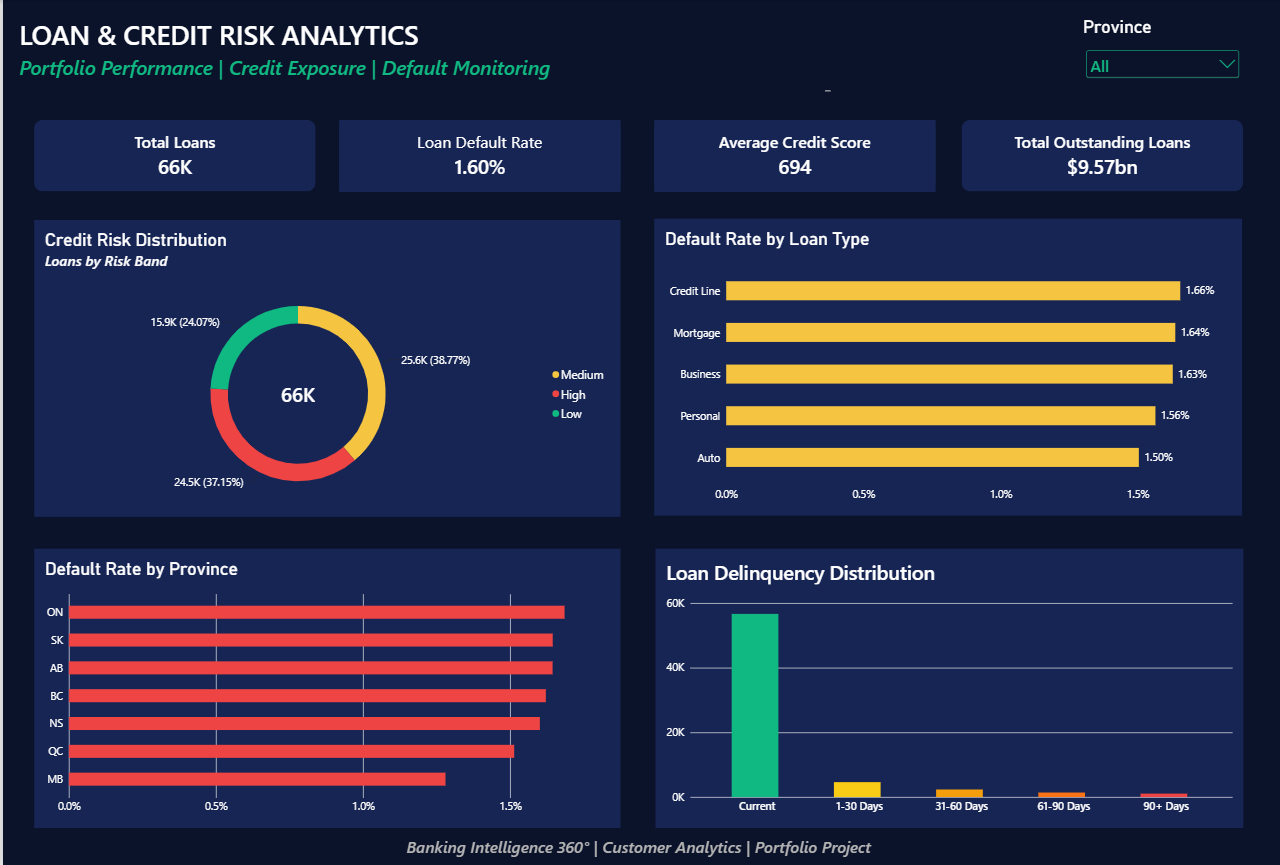

This screenshot's page, from the dashboard's own definition file:
{"tool":"powerbi","page":{"name":"Loan & Credit Risk Analytics","canvas":[1920,1300],"ordinal":2},"visuals":[{"type":"cardVisual","fields":{"Data":["_Measures (2).Total Loans"]},"box":[46.9,180.7,422.4,107.9],"z":0},{"type":"cardVisual","fields":{"Data":["_Measures (2).Loan Default Rate"]},"box":[504.5,180.7,422.4,107.9],"z":1000},{"type":"cardVisual","fields":{"Data":["_Measures (2).Average Credit Score"]},"box":[978.6,180.7,422.4,107.9],"z":2000},{"type":"cardVisual","fields":{"Data":["_Measures (2).Total Outstanding Loans"]},"box":[1438.5,180.7,422.4,107.9],"z":3000},{"type":"textbox","title":"LOAN & CREDIT RISK ANALYTICS","box":[23.5,23.5,1217.9,112.6],"z":4000},{"type":"donutChart","title":"Credit Risk Distribution","fields":{"Category":["CreditRisk.RiskBand"],"Y":["_Measures (2).Loans by Risk Band"]},"box":[46,329.6,879.8,446],"z":5000},{"type":"clusteredBarChart","title":"Default Rate by Loan Type","fields":{"Category":["Loans.LoanType"],"Y":["_Measures (2).Loan Default Rate"]},"box":[978.6,328.5,882.3,445.9],"z":6000},{"type":"clusteredBarChart","title":"Default Rate by Province","fields":{"Category":["Branches.Province"],"Y":["_Measures (2).Loan Default Rate"]},"box":[46,824,879.8,419.3],"z":7000},{"type":"clusteredColumnChart","title":"Loan Delinquency Distribution","fields":{"Category":["Loans.Delinquency Bucket"],"Y":["_Measures (2).Total Loans"]},"box":[979.2,824,882.2,419.3],"z":8000},{"type":"slicer","title":"Province","fields":{"Values":["Branches.Province"]},"box":[1621.5,23.5,239.4,112.6],"z":9000},{"type":"textbox","title":"Banking Intelligence 360° | Customer Analytics | Portfolio Project","box":[514.7,1255.2,880.2,44.8],"z":9001}]}

Visuals, with their boxes in screenshot pixels (x1, y1, x2, y2), scaled from the page's 1920x1300 canvas onto the 1280x865 screenshot:
cardVisual - _Measures (2).Total Loans: crop(31, 120, 313, 192)
cardVisual - _Measures (2).Loan Default Rate: crop(336, 120, 618, 192)
cardVisual - _Measures (2).Average Credit Score: crop(652, 120, 934, 192)
cardVisual - _Measures (2).Total Outstanding Loans: crop(959, 120, 1241, 192)
"LOAN & CREDIT RISK ANALYTICS" textbox: crop(16, 16, 828, 91)
"Credit Risk Distribution" donutChart: crop(31, 219, 617, 516)
"Default Rate by Loan Type" clusteredBarChart: crop(652, 219, 1241, 515)
"Default Rate by Province" clusteredBarChart: crop(31, 548, 617, 827)
"Loan Delinquency Distribution" clusteredColumnChart: crop(653, 548, 1241, 827)
"Province" slicer: crop(1081, 16, 1241, 91)
"Banking Intelligence 360° | Customer Analytics | Portfolio Project" textbox: crop(343, 835, 930, 864)
